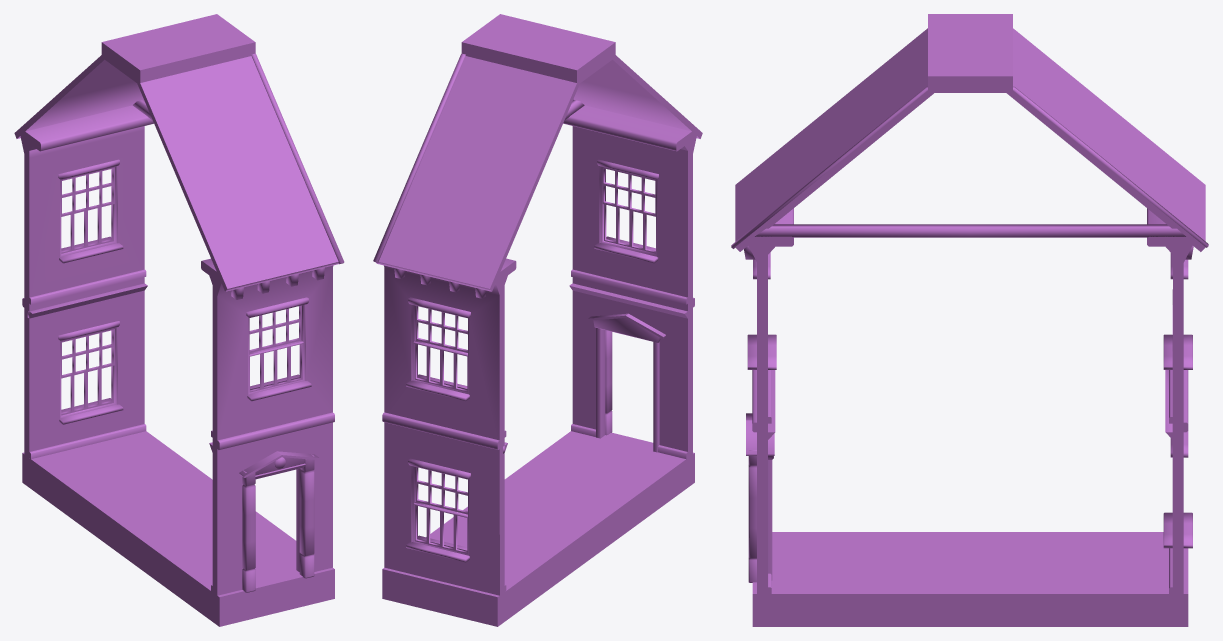
The model's file is BrickHouse_Mid_B.fbx.
The picture shows the model from 3 angles, left to right: view 1: azimuth 30°, elevation 25°; view 2: azimuth 150°, elevation 25°; view 3: azimuth 270°, elevation 25°; orthographic projection. The views are drawn at different scales.
Visible parts, largest first — view 1: BrickHouse_Mid_B; view 2: BrickHouse_Mid_B; view 3: BrickHouse_Mid_B.
Part boxes in pixels (x1=…): BrickHouse_Mid_B: x1=14, y1=14, x2=344, y2=626; BrickHouse_Mid_B: x1=373, y1=14, x2=702, y2=626; BrickHouse_Mid_B: x1=731, y1=14, x2=1208, y2=626.
Size of the model in its own units: 4 by 16.52 by 12.98.
